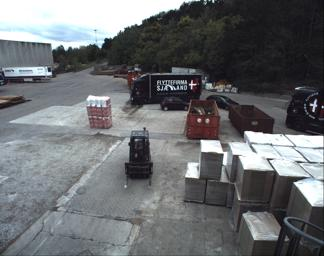rockwool_batts: (84, 92, 112, 127)
